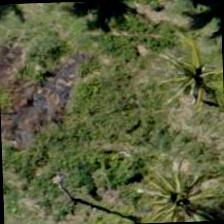Kelapa_Sawit: (152, 32, 223, 125), (136, 153, 223, 224)
